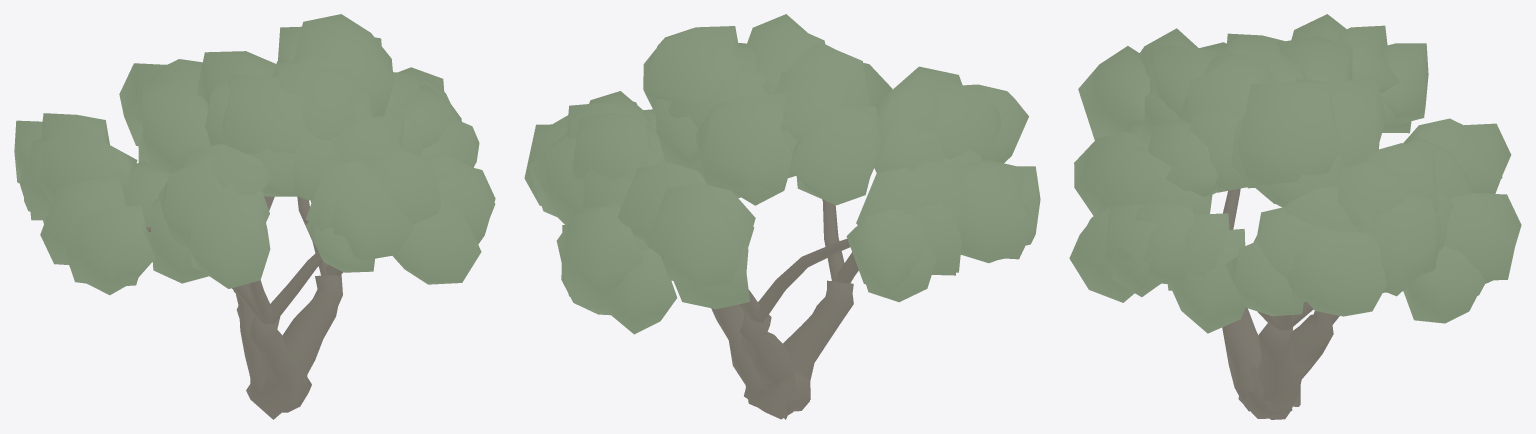
Rendered from Blender_OliveTree_1.glb.
3 renders of one model, left to right at view 1: azimuth 30°, elevation 25°; view 2: azimuth 150°, elevation 25°; view 3: azimuth 270°, elevation 25°, orthographic. The views are drawn at different scales.
Parts seen in each view (by area): view 1: Blender_OliveTree_1; view 2: Blender_OliveTree_1; view 3: Blender_OliveTree_1.
Part boxes in pixels (bbox=[...]): Blender_OliveTree_1: bbox=[14, 14, 495, 419]; Blender_OliveTree_1: bbox=[524, 14, 1040, 419]; Blender_OliveTree_1: bbox=[1069, 14, 1521, 419].
Size of the model in its own units: 10.04 by 7.82 by 8.73.
